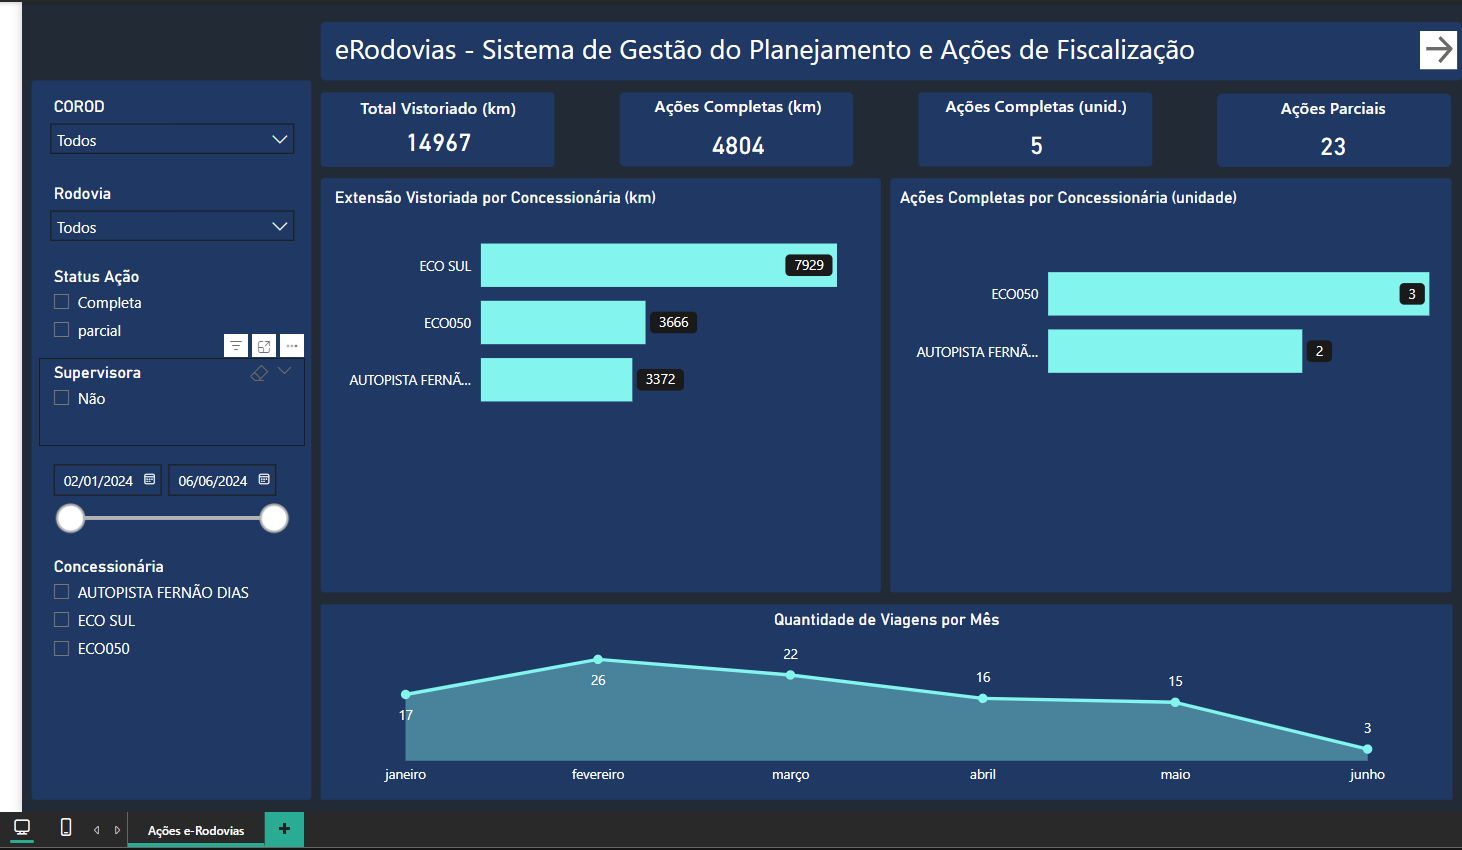

The page's visual inventory and layout, read from the dashboard file:
{"tool":"powerbi","page":{"name":"Ações e-Rodovias","canvas":[1280,720],"ordinal":0},"visuals":[{"type":"card","title":"Total Vistoriado (km)","fields":{"Values":["Medidas.ExtTotalVist"]},"box":[266.9,83.3,206.6,66.5],"z":0},{"type":"slicer","fields":{"Values":["Modificada.Concessionária"]},"box":[15.1,488.6,236.7,209.3],"z":1000},{"type":"card","title":"Ações Completas (unid.)","fields":{"Values":["Medidas.TotalPlanosCompletos"]},"box":[798,81.6,206.6,75.4],"z":2000},{"type":"card","title":"Ações Parciais","fields":{"Values":["Medidas.TotalPlanosIncompletos"]},"box":[1061.4,83.3,208.4,73.6],"z":3000},{"type":"card","title":"Ações Completas (km)","fields":{"Values":["Medidas.ExtPlanosCompletos"]},"box":[532,81.6,208.4,75.4],"z":4000},{"type":"slicer","fields":{"Values":["Modificada.Rodovia"]},"box":[15.1,156.9,236.7,67.4],"z":5000},{"type":"slicer","fields":{"Values":["Modificada.Status Ação"]},"box":[15.1,231.4,236.7,85.1],"z":6000},{"type":"textbox","box":[273.3,19.5,794.7,46.7],"z":7000},{"type":"slicer","fields":{"Values":["Modificada.COROD"]},"box":[15.1,79.8,236.7,70],"z":8000},{"type":"actionButton","box":[1243,26,33.1,34],"z":9000},{"type":"barChart","title":"Extensão Vistoriada por Concessionária (km)","fields":{"Category":["Modificada.Concessionária"],"Y":["Sum(Modificada.Extensão)"]},"box":[273.1,164.9,487.7,217.2],"z":10000},{"type":"barChart","title":"Ações Completas por Concessionária (unidade)","fields":{"Y":["Medidas.TotalPlano"],"Category":["Modificada.Concessionária"]},"box":[775,164.9,494.8,217.2],"z":11000},{"type":"lineChart","title":"Quantidade de Viagens por Mês","fields":{"Y":["Medidas.QtdeViagens"],"Category":["Modificada.Retorno.Variation.Hierarquia de datas.Mês"]},"box":[267.8,540.9,1002,164],"z":12000},{"type":"slicer","fields":{"Values":["Modificada.Supervisora"]},"box":[15.1,316.6,236.7,78],"z":13000},{"type":"slicer","fields":{"Values":["Modificada.Retorno"]},"box":[15.1,400.8,230.5,79.8],"z":14000}]}

Visuals, with their boxes on the page's 1280x720 design canvas (x1, y1, x2, y2). These are canvas units, not pixel positions in the 1462x850 screenshot, which may show the page scaled, cropped or inside an application window:
"Total Vistoriado (km)" card: 267/83/474/150
slicer - Modificada.Concessionária: 15/489/252/698
"Ações Completas (unid.)" card: 798/82/1005/157
"Ações Parciais" card: 1061/83/1270/157
"Ações Completas (km)" card: 532/82/740/157
slicer - Modificada.Rodovia: 15/157/252/224
slicer - Modificada.Status Ação: 15/231/252/316
textbox: 273/20/1068/66
slicer - Modificada.COROD: 15/80/252/150
actionButton: 1243/26/1276/60
"Extensão Vistoriada por Concessionária (km)" barChart: 273/165/761/382
"Ações Completas por Concessionária (unidade)" barChart: 775/165/1270/382
"Quantidade de Viagens por Mês" lineChart: 268/541/1270/705
slicer - Modificada.Supervisora: 15/317/252/395
slicer - Modificada.Retorno: 15/401/246/481
